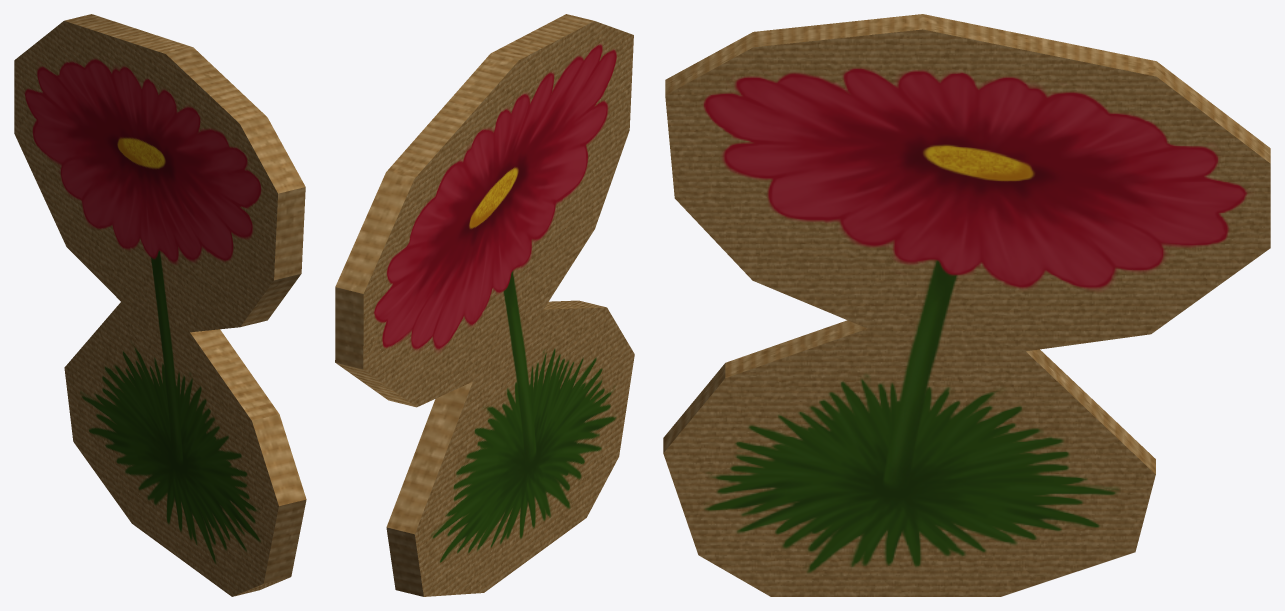
The model's file is Asset_Flower_Red.fbx.
The picture shows the model from 3 angles, left to right: view 1: azimuth 30°, elevation 25°; view 2: azimuth 150°, elevation 25°; view 3: azimuth 270°, elevation 25°; orthographic projection. The views are drawn at different scales.
Visible parts, largest first — view 1: Asset_Flower_Red_01; view 2: Asset_Flower_Red_01; view 3: Asset_Flower_Red_01.
Boxes of the visible parts, left/top/right/bottom form: Asset_Flower_Red_01: left=14, top=14, right=306, bottom=596; Asset_Flower_Red_01: left=335, top=14, right=634, bottom=596; Asset_Flower_Red_01: left=663, top=14, right=1270, bottom=596.
Bounding box in the file's own units: 0.0331 × 0.5663 × 0.5493.
